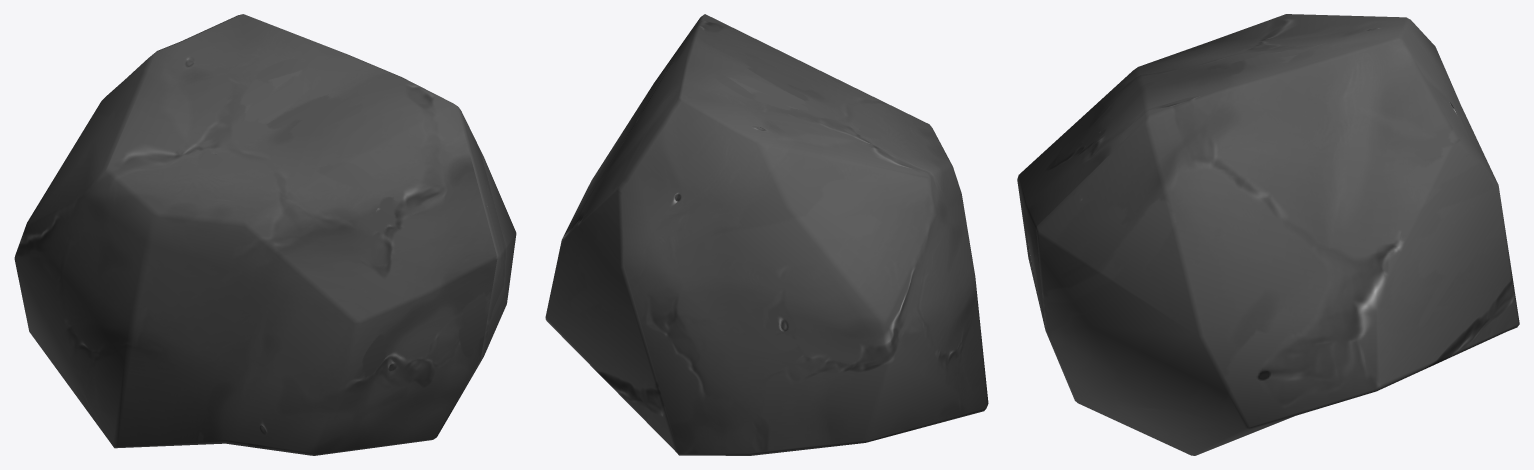
File: SM_ENV_stone_battle_01.fbx
3 views of the same model, side by side, from view 1: azimuth 30°, elevation 25°; view 2: azimuth 150°, elevation 25°; view 3: azimuth 270°, elevation 25° (orthographic). The views are drawn at different scales.
Visible parts, largest first — view 1: SM_ENV_stone_battle_01_LOD0; view 2: SM_ENV_stone_battle_01_LOD0; view 3: SM_ENV_stone_battle_01_LOD0.
Boxes of the visible parts, x1=… form: SM_ENV_stone_battle_01_LOD0: x1=14, y1=14, x2=516, y2=455; SM_ENV_stone_battle_01_LOD0: x1=545, y1=14, x2=988, y2=455; SM_ENV_stone_battle_01_LOD0: x1=1017, y1=14, x2=1519, y2=455.
Size of what is drawn, in the model's own units: 264 by 227 by 271.
